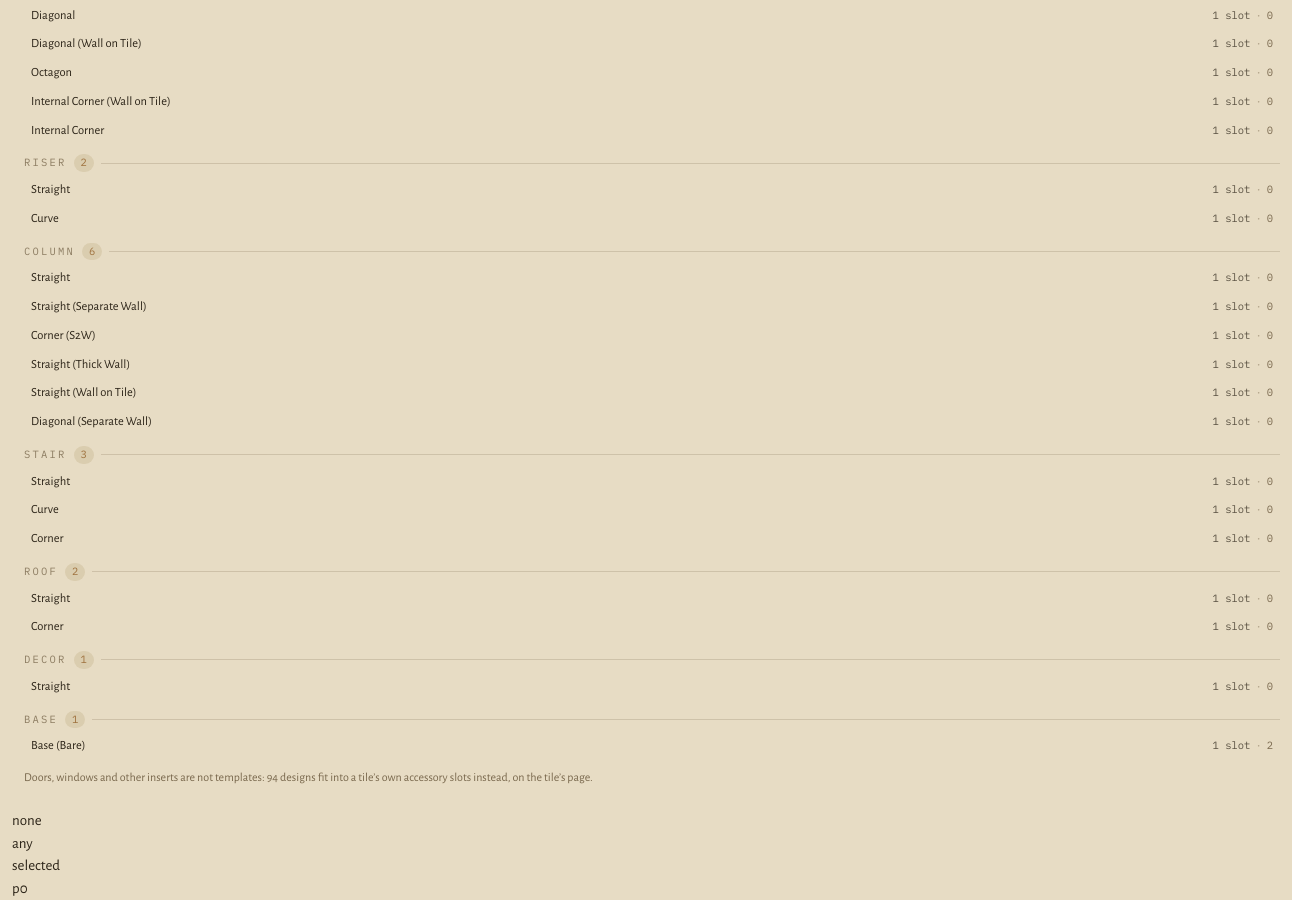
Scenario: the palette › gives no size control to a family the archive tags no size for
(page scrolled)
Click the button "Straight 1 slot 0" below "Decor": (51, 686) [24,674,1280,700]
(page scrolled)
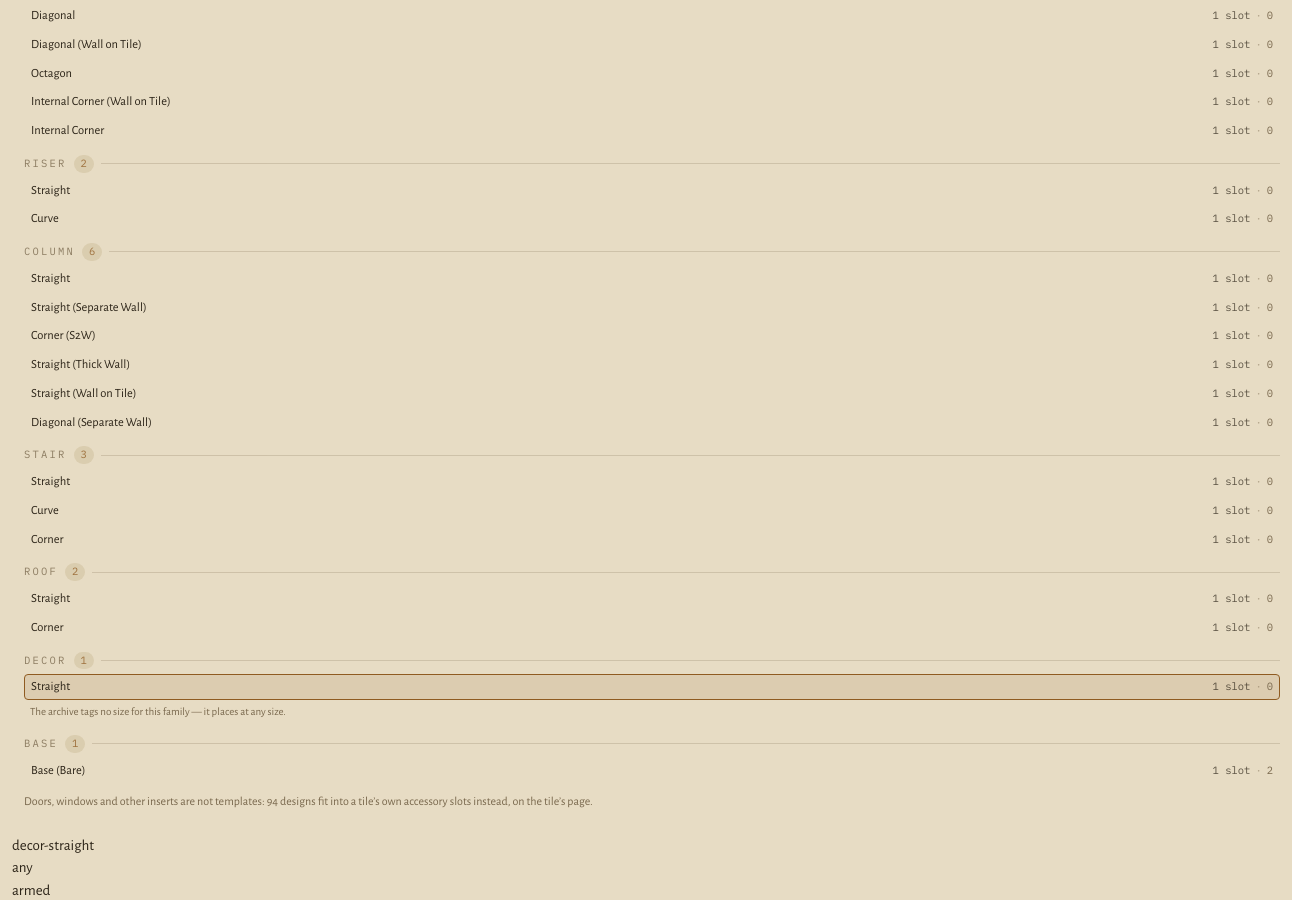
Now the text "archive tags no size for this family" is shown, box [30,706,286,717]
Now the text with test id "selected-template" reads "decor-straight", box [12,838,94,853]
